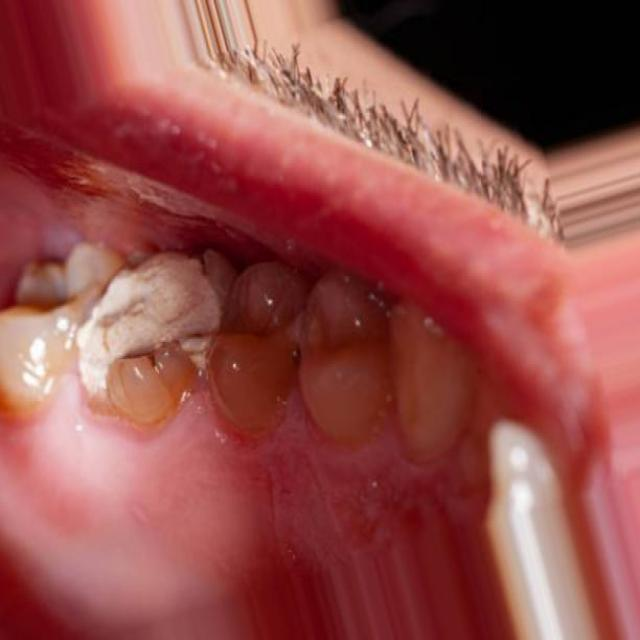caries: (71, 244, 223, 420)
